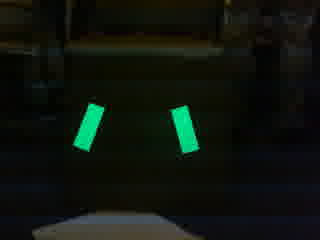target: (69, 99, 209, 156)
